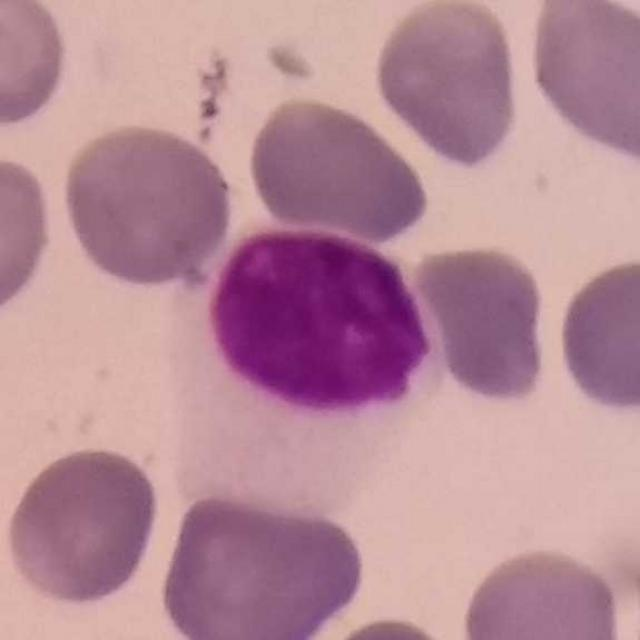RBC: (199, 220, 440, 423), (152, 487, 370, 639), (57, 117, 239, 290), (244, 92, 434, 245), (0, 442, 165, 609), (369, 0, 526, 171), (408, 240, 554, 408), (522, 0, 639, 169), (455, 542, 626, 640), (552, 252, 640, 418), (0, 147, 58, 328), (0, 0, 74, 132), (532, 1, 640, 55), (302, 612, 476, 640)
